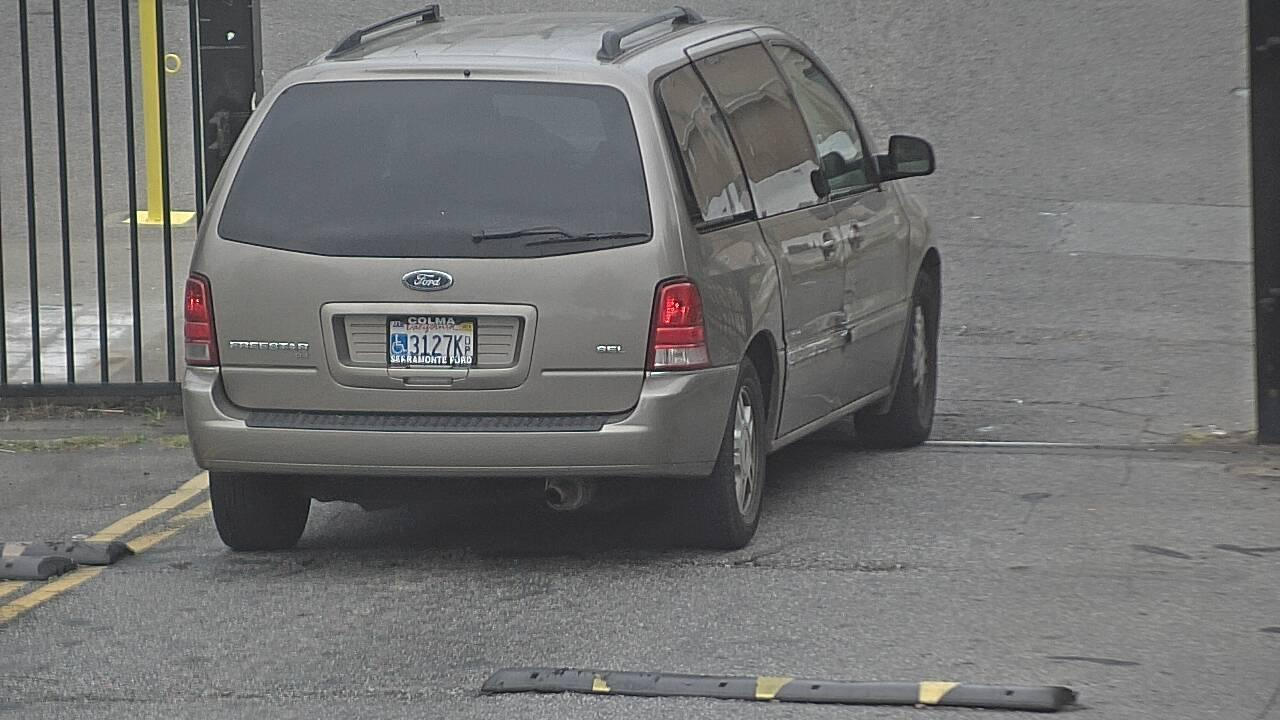placa de veiculo: (341, 296, 506, 389)
